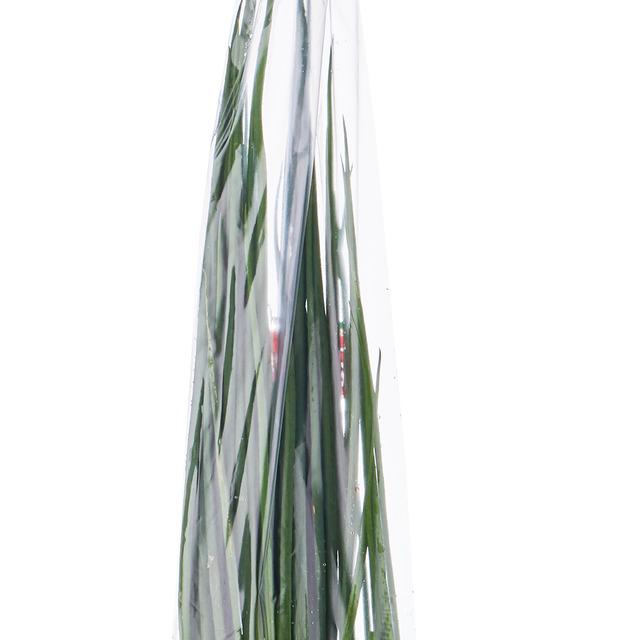green_onion: (169, 0, 432, 640)
